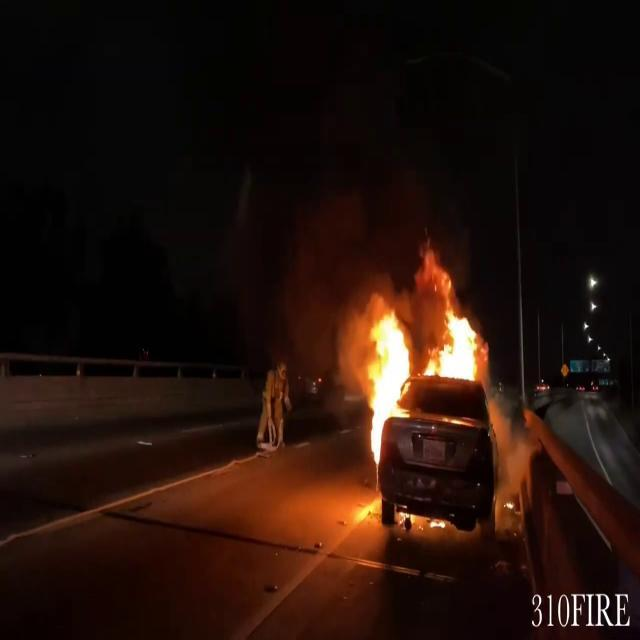Fire: (360, 310, 410, 456), (422, 282, 488, 391)
Smoke: (275, 198, 383, 396)
